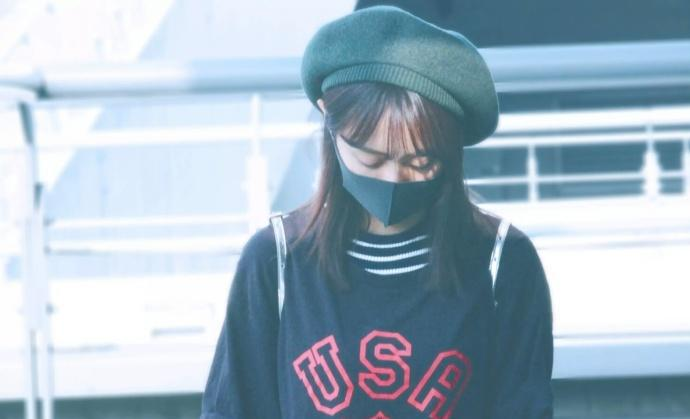OK: (326, 99, 450, 223)
